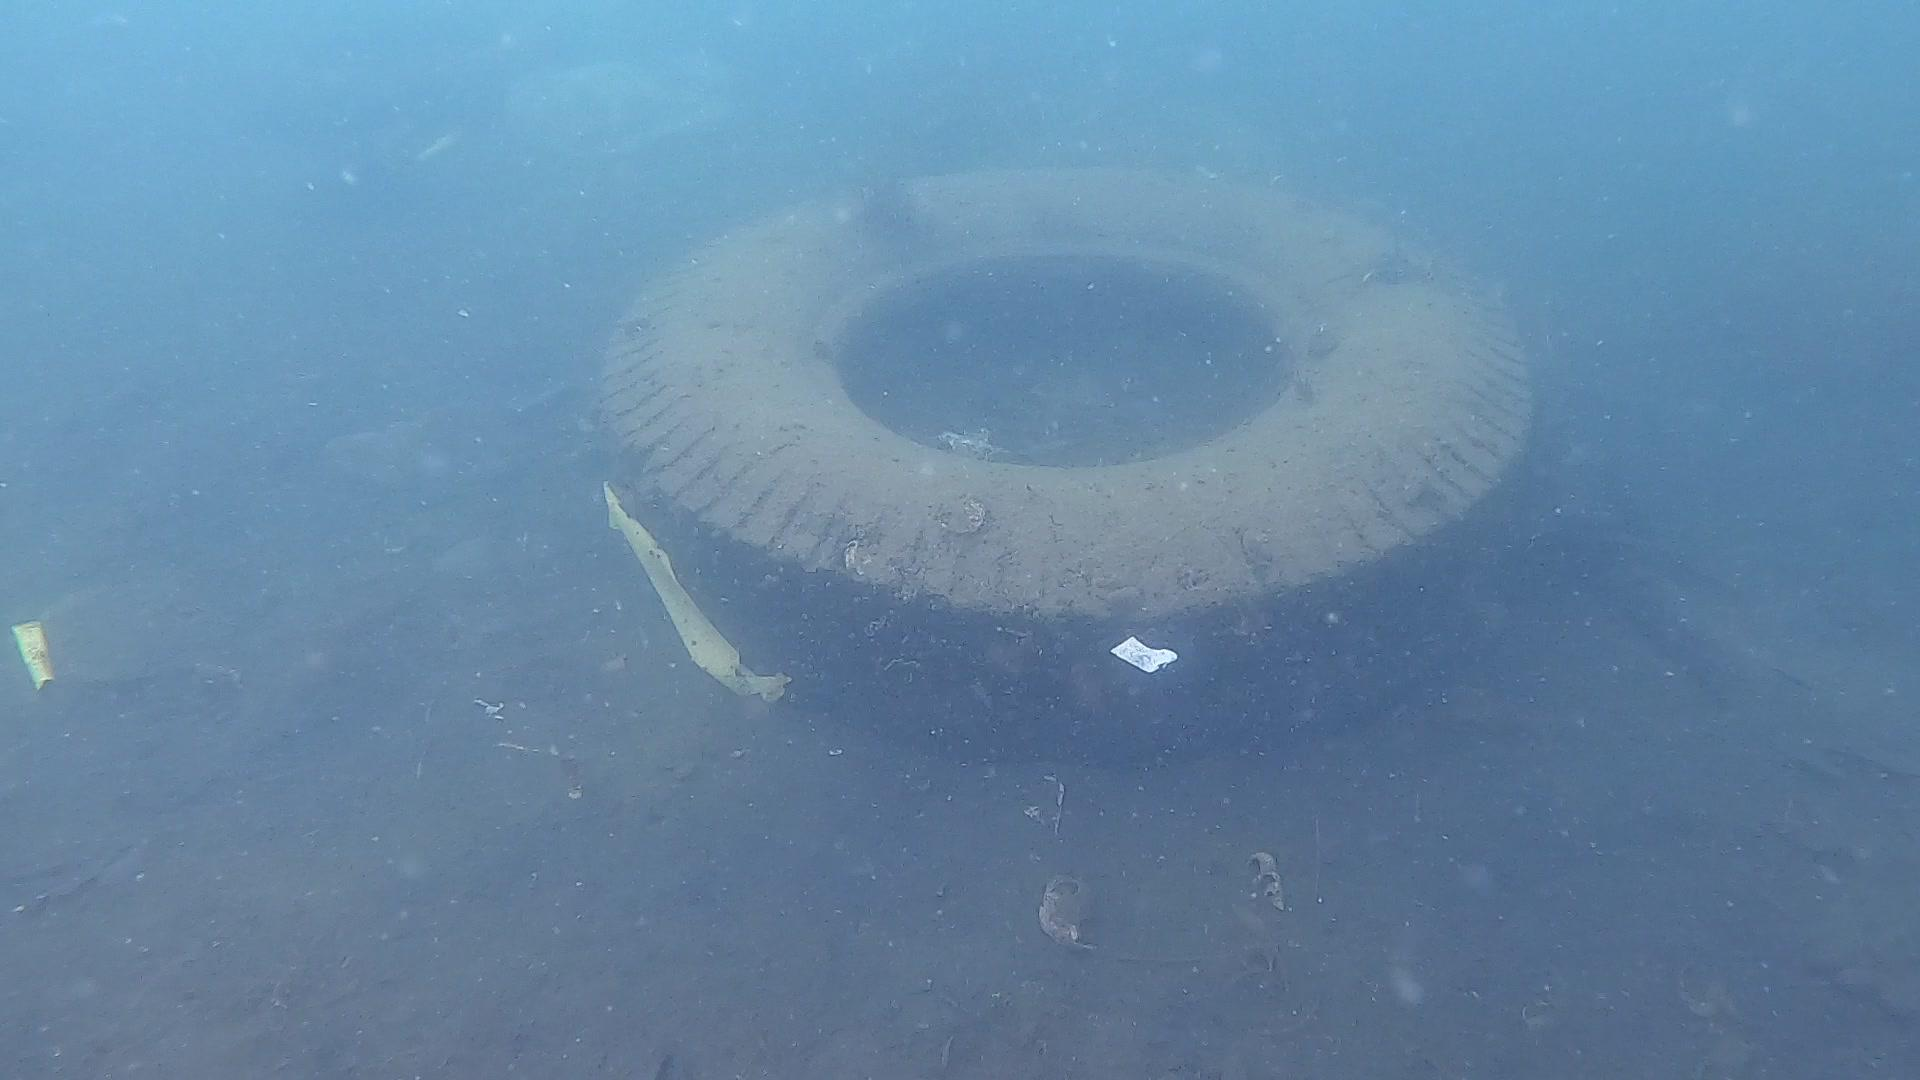tire: (596, 164, 1538, 754)
